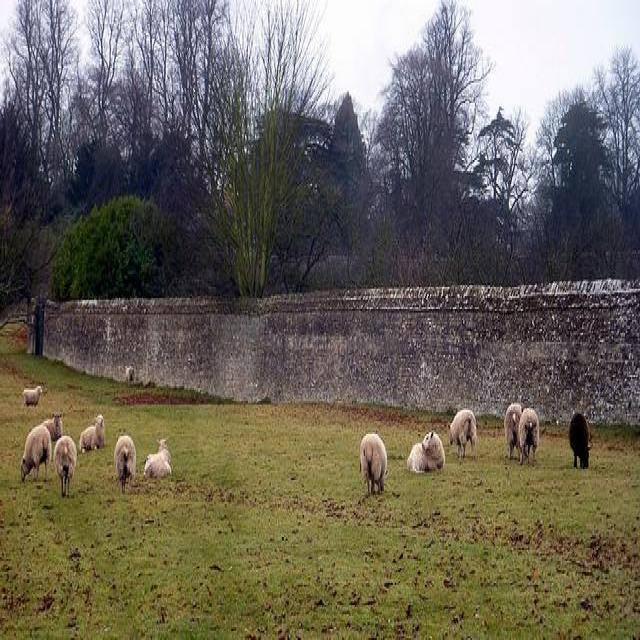Sheep: (506, 404, 539, 470)
